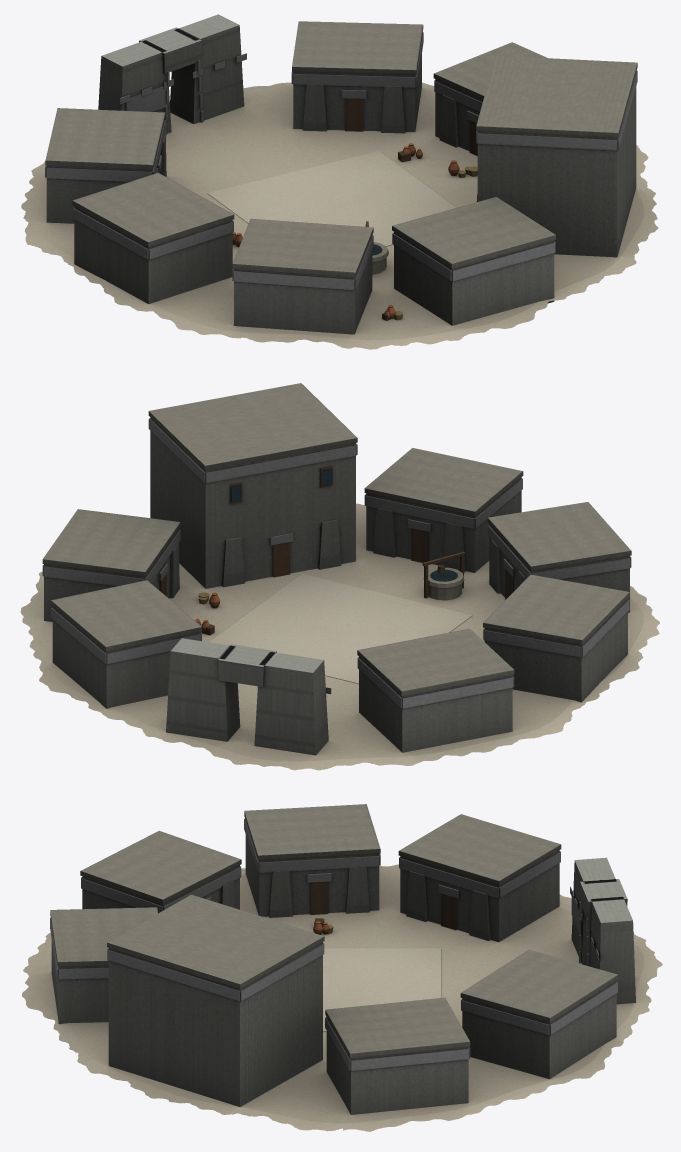
The model's file is kingdoms-town-small-b-americas.glb.
3 renders of one model, top to bottom at view 1: azimuth 30°, elevation 25°; view 2: azimuth 150°, elevation 25°; view 3: azimuth 270°, elevation 25°, orthographic.
Parts seen in each view (by area): view 1: LOD0; view 2: LOD0; view 3: LOD0.
Boxes of the visible parts, left/top/right/bottom form: LOD0: left=21, top=14, right=658, bottom=349; LOD0: left=20, top=383, right=659, bottom=770; LOD0: left=21, top=804, right=662, bottom=1131.
Size of what is drawn, in the model's own units: 3.99 by 0.8632 by 3.99.
3 materials, 3 textured.
